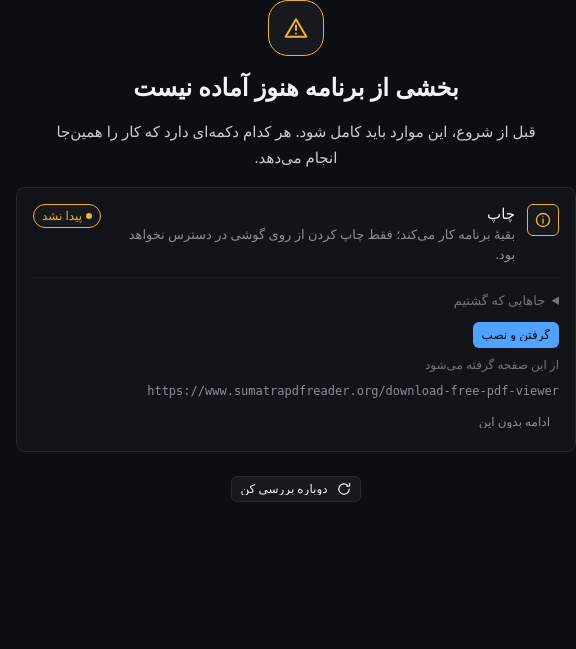
it: a download the app cannot vouch for › never offers to confirm a digest that does not match
This screenshot has width=576, height=649.
Click the button "گرفتن و نصب" at x=516, y=335, box [473,322,559,348]
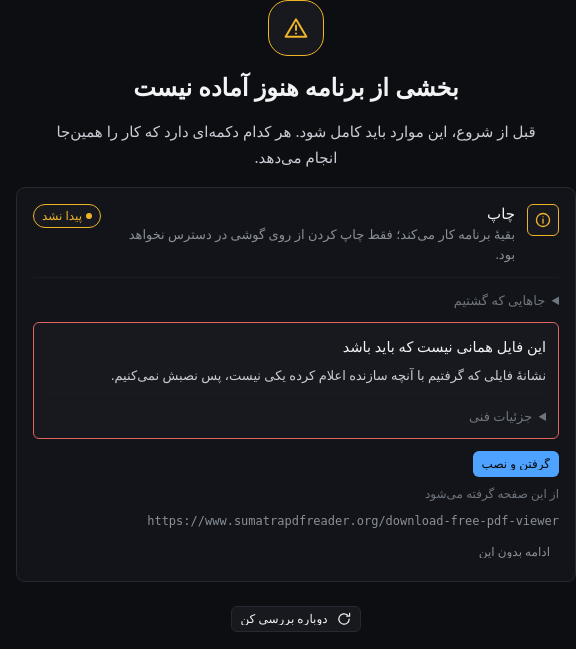
Check: the text "این فایل همانی نیست که باید باشد" is shown, box [343,336,546,356]
